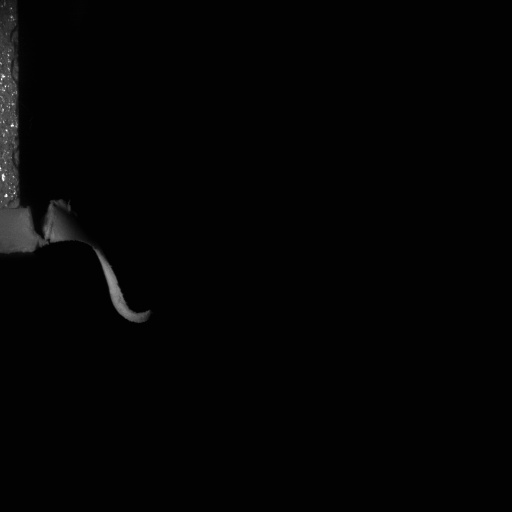changdai: (21, 201, 152, 327)
